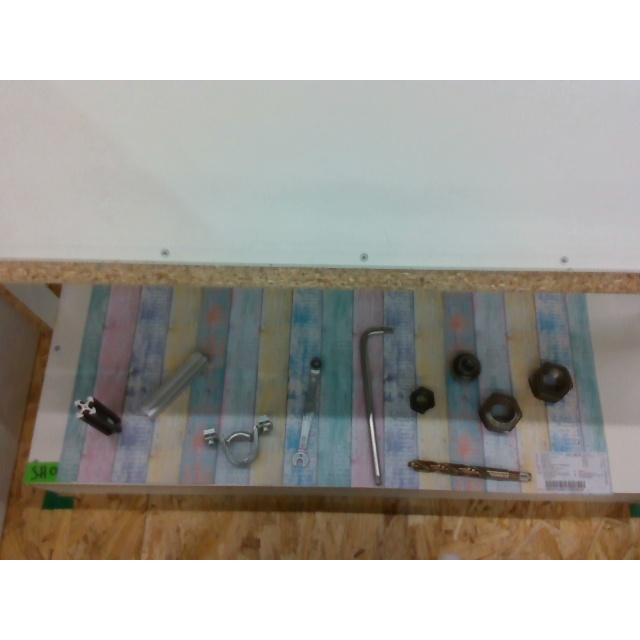AllenKey: (359, 326, 388, 486)
Bearing2: (452, 351, 481, 379)
Drill: (408, 458, 530, 480)
F20_20_B: (75, 396, 121, 432)
F20_20_G: (142, 352, 206, 420)
Housing: (204, 418, 272, 466)
M20: (410, 386, 434, 412)
M30: (479, 391, 521, 431), (531, 362, 573, 402)
Wrench: (293, 357, 321, 467)
